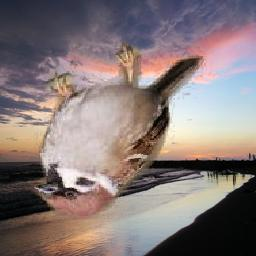Sparrow: (29, 41, 207, 221)
